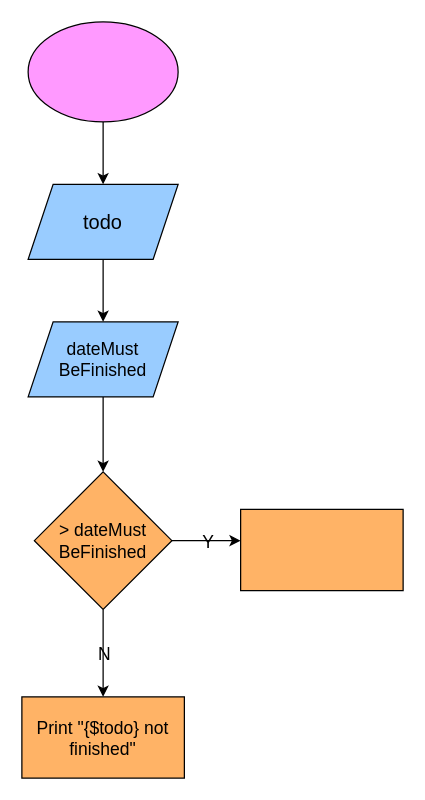
Image size: 425x800. Some labels were removed from this diagram. The shapes that lost their labels are listed below. From the top down, each one's centre as x and y in pixels, then its label:
[102,71]: START
[321,549]: Print "{$todo} have been completed"
